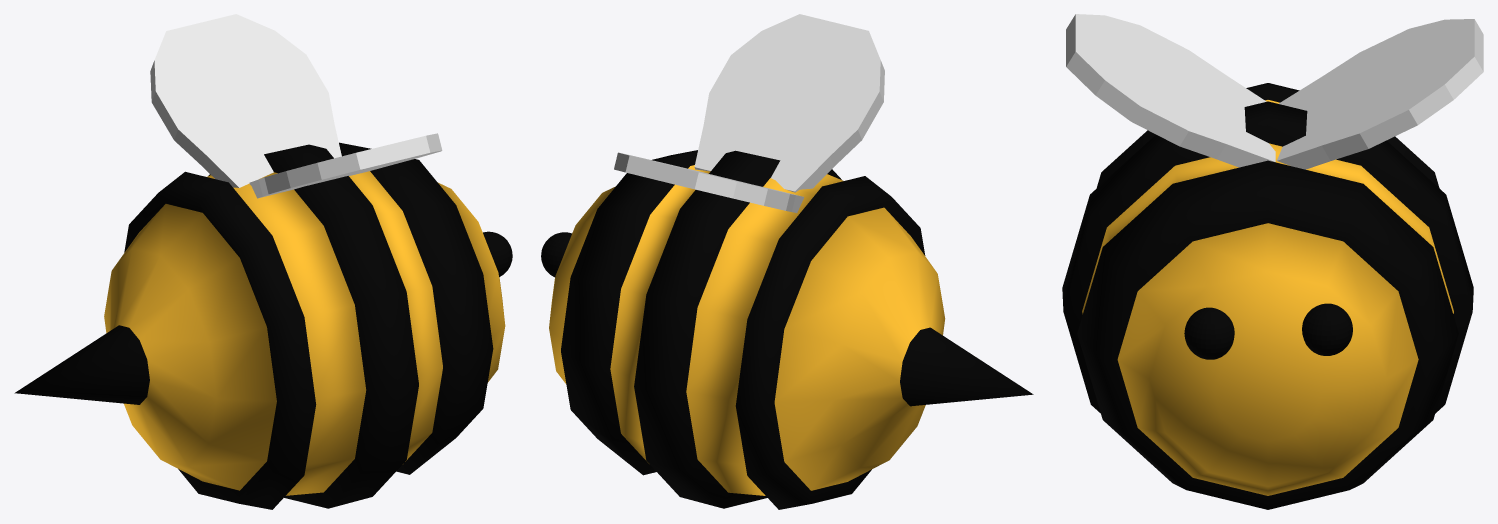
File: bee.fbx
The picture shows the model from 3 angles, left to right: view 1: azimuth 30°, elevation 25°; view 2: azimuth 150°, elevation 25°; view 3: azimuth 270°, elevation 25°; orthographic projection. The views are drawn at different scales.
Parts seen in each view (by area): view 1: Cube, Plane, Plane.001, Sphere; view 2: Cube, Plane.001, Plane, Sphere.001; view 3: Cube, Plane.001, Plane, Sphere.001, Sphere.
Part boxes in pixels (x1,y1,x2,y2): Cube: (14,142,505,509); Plane: (150,14,341,187); Plane.001: (249,133,442,198); Sphere: (483,231,512,276); Cube: (549,150,1033,509); Plane.001: (694,14,884,192); Plane: (614,152,804,212); Sphere.001: (541,232,571,277); Cube: (1062,83,1473,509); Plane.001: (1066,14,1275,167); Plane: (1277,19,1483,169); Sphere.001: (1302,303,1352,355); Sphere: (1184,307,1234,359).
Size of the model in its own units: 312 by 262 by 221.
